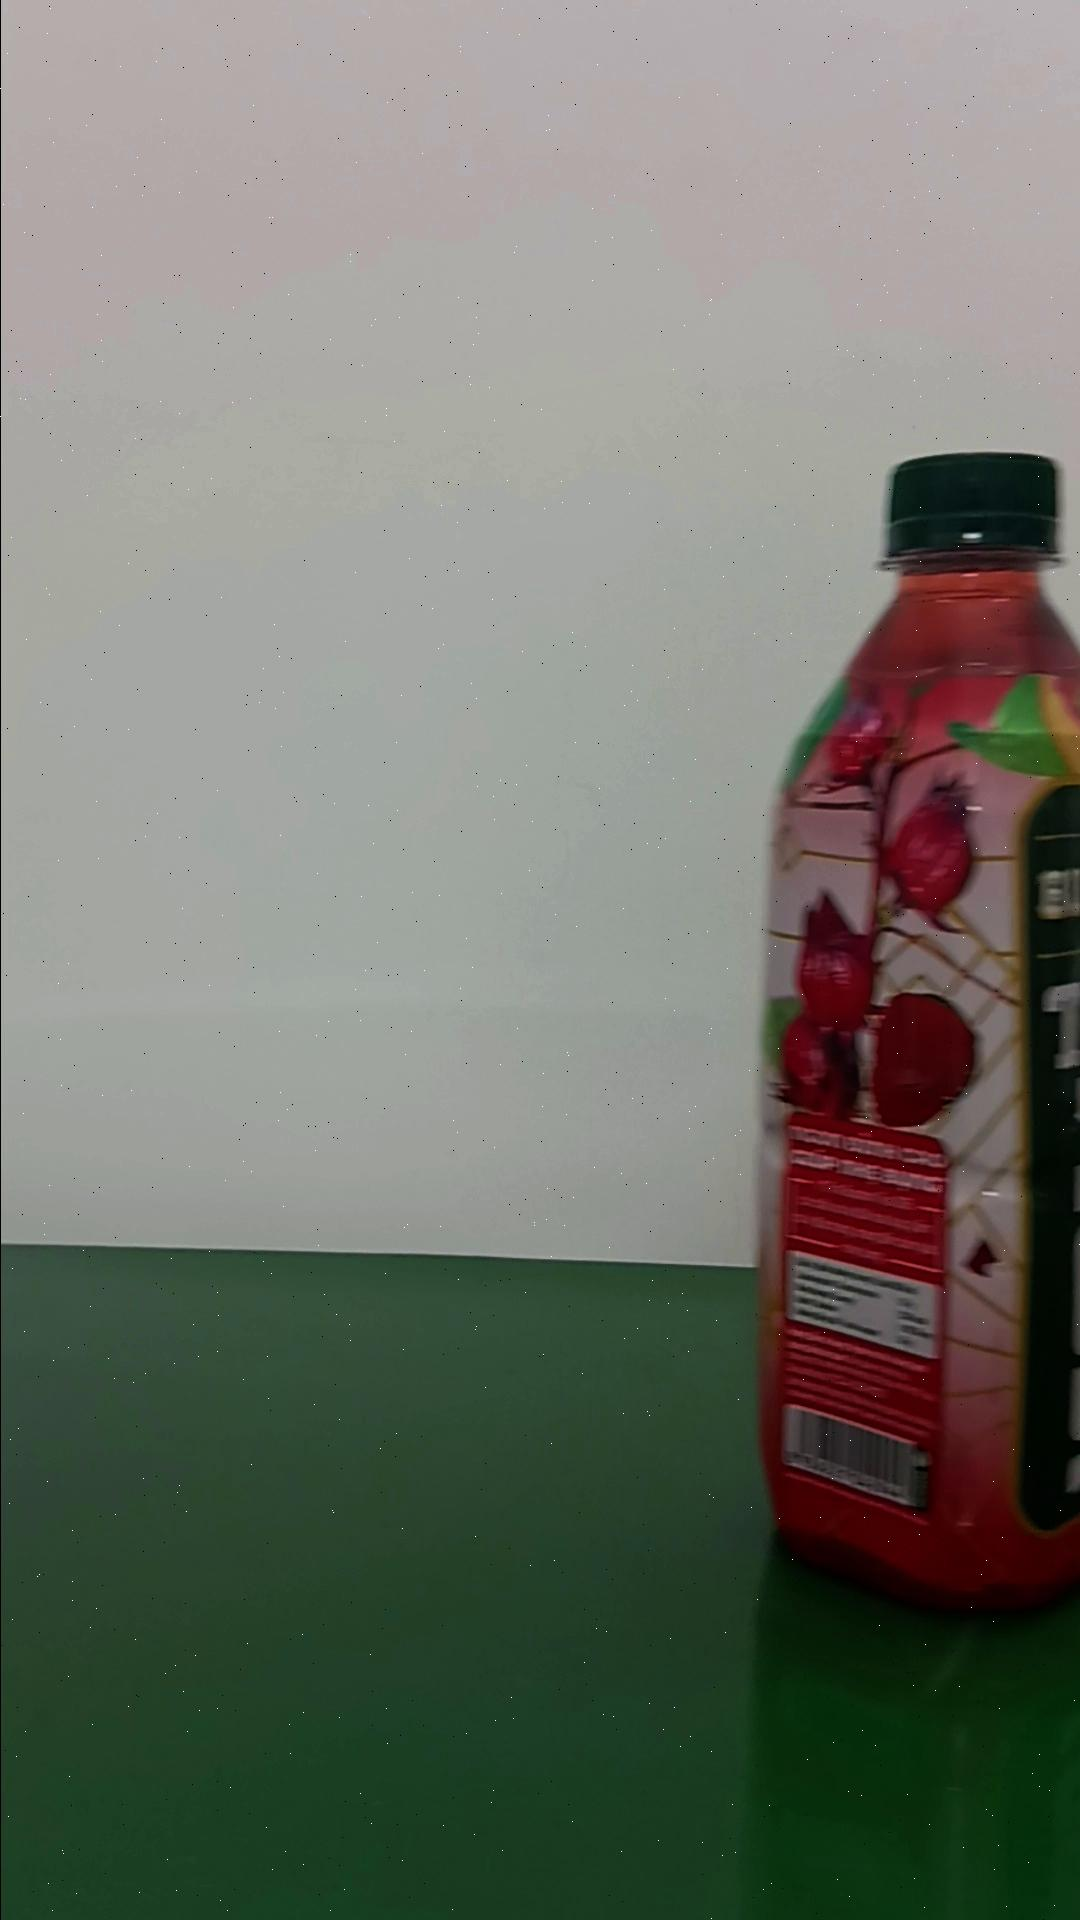loi rach va lap chai: (758, 439, 1079, 1627)
